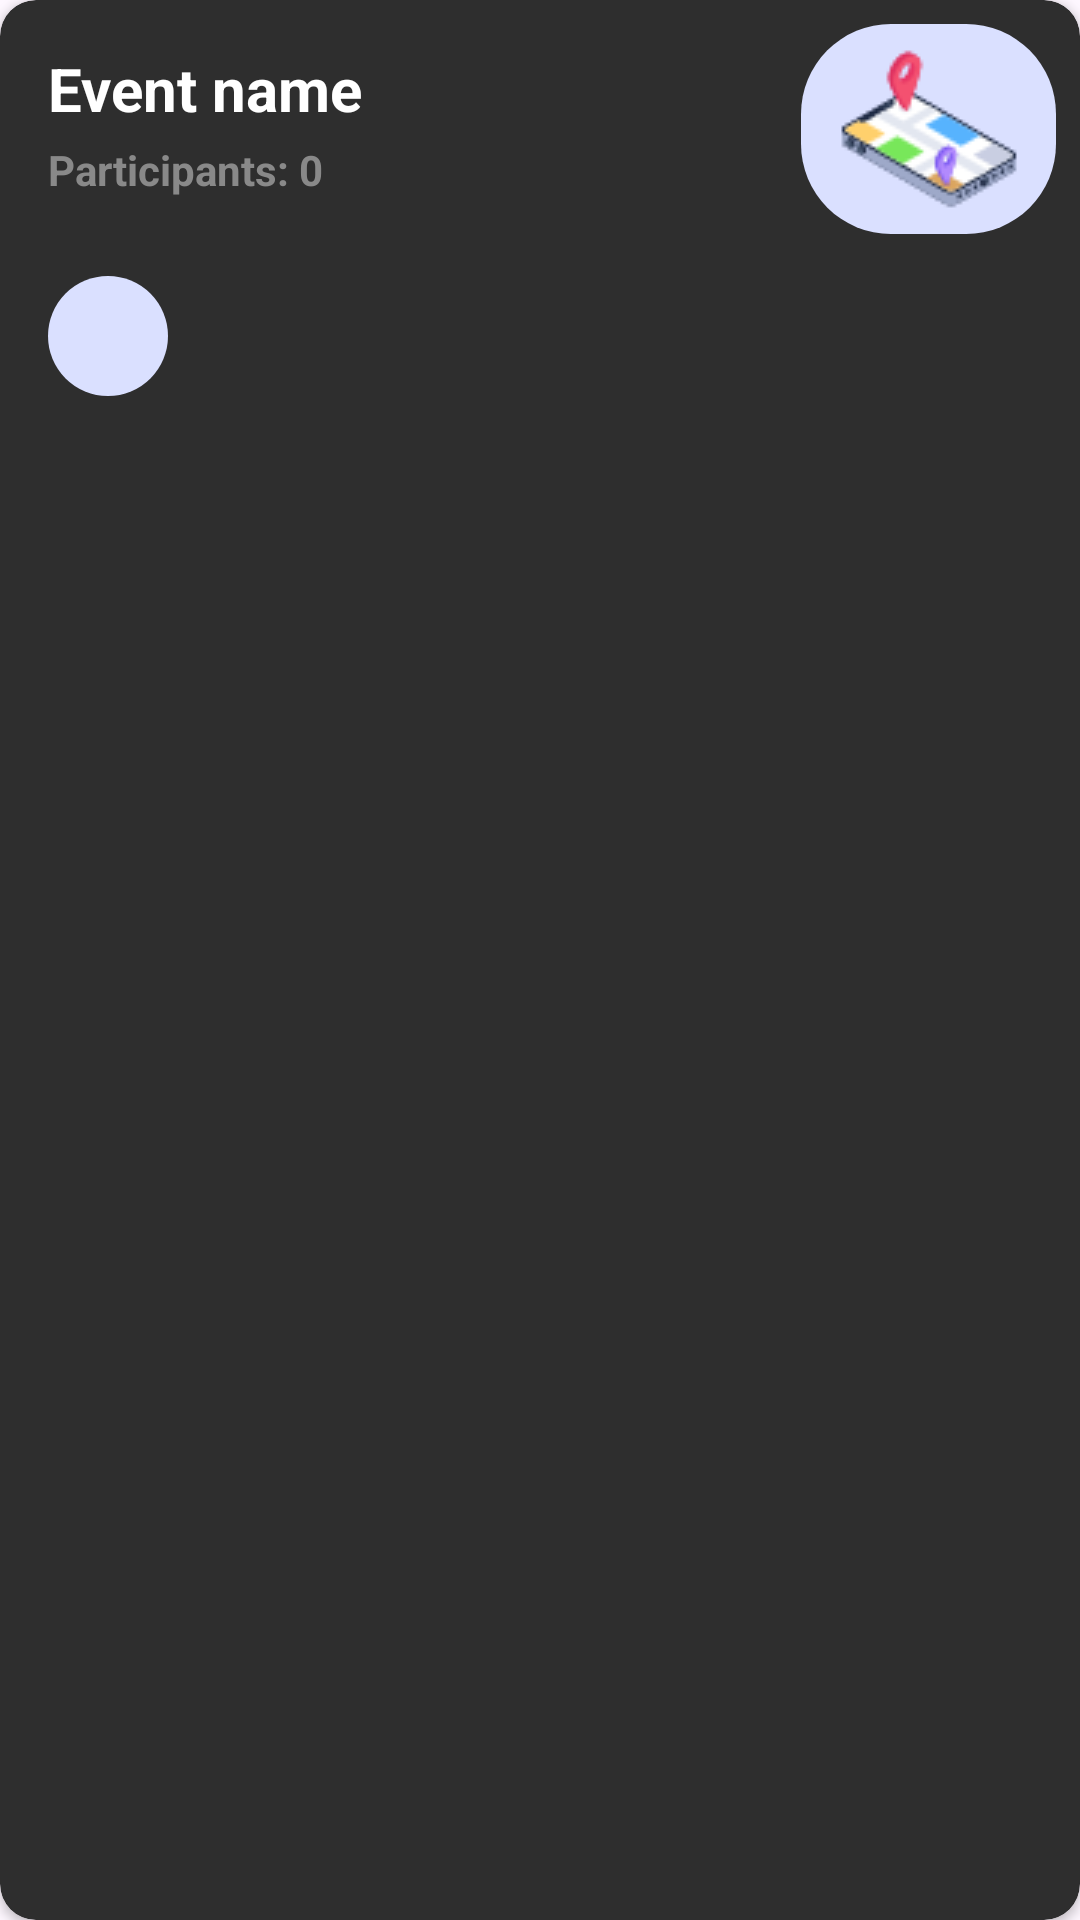

Where to tap for icons on this 1080px x 1920px app screen, as point (x, y):
tracking apppppp: point (928, 129)
